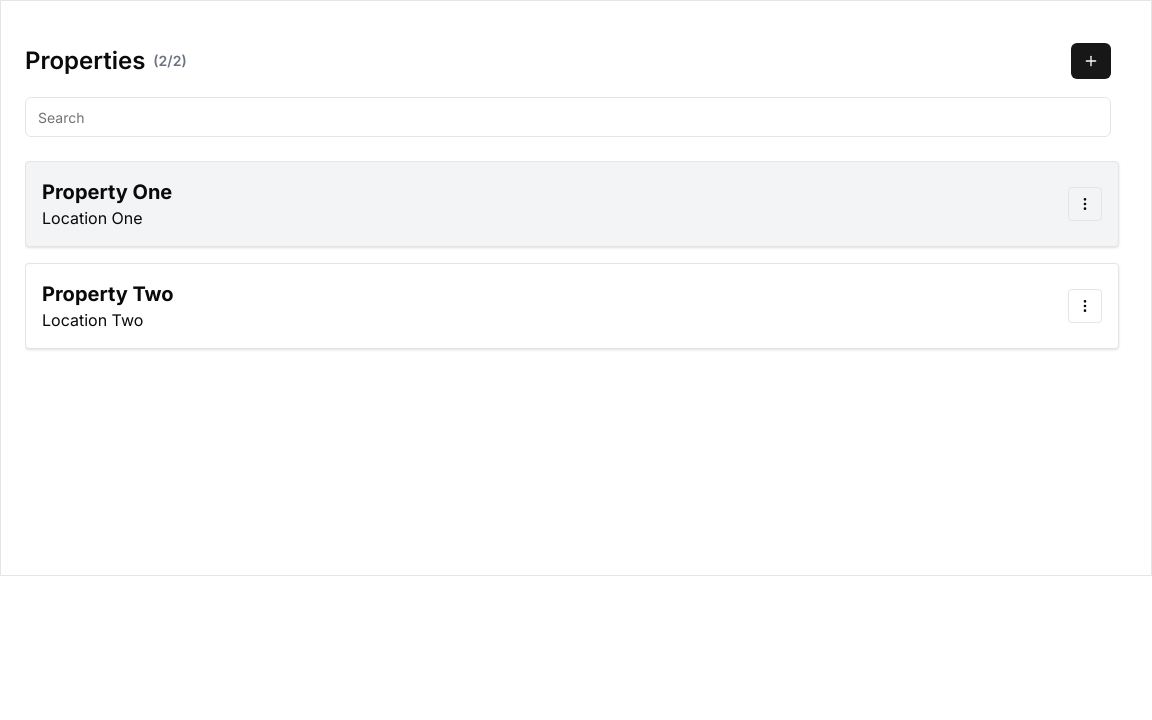
Test: PropertyList Component › displays no results message when search term does not match any property
Type "Three" into the field with placeholder "Search" at (568, 117), box 25,97 -> 1111,137
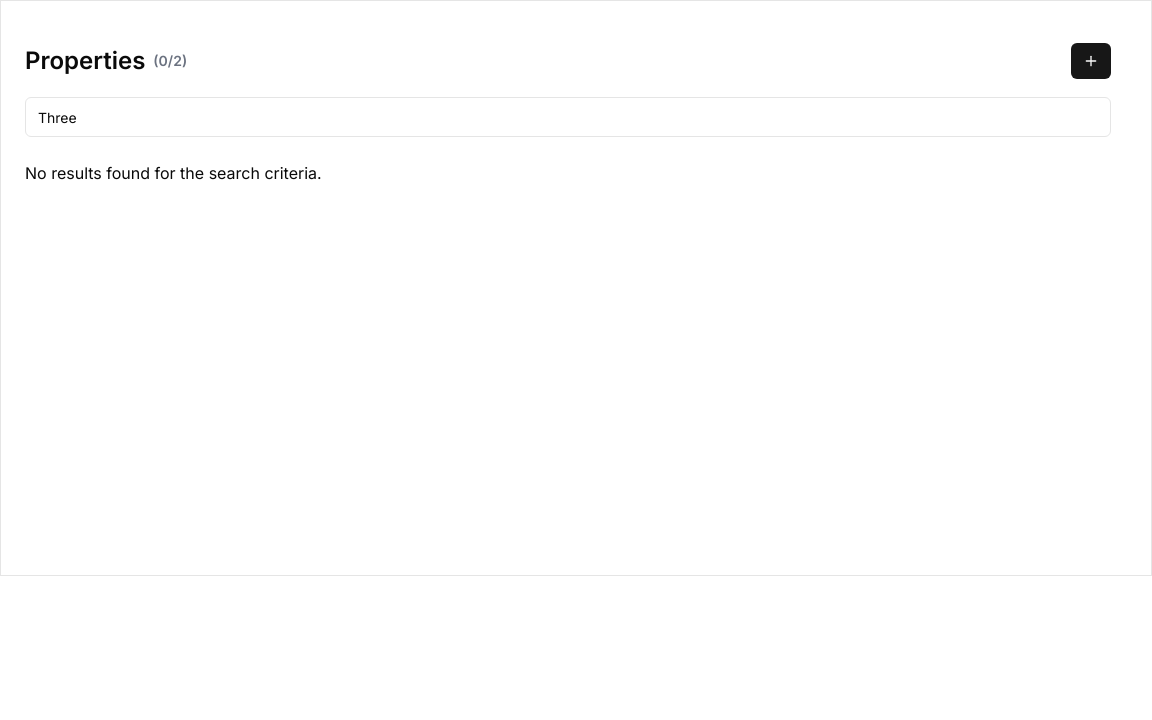
Check: the text "No results found for the search criteria." is shown, box 25,163 -> 322,183
